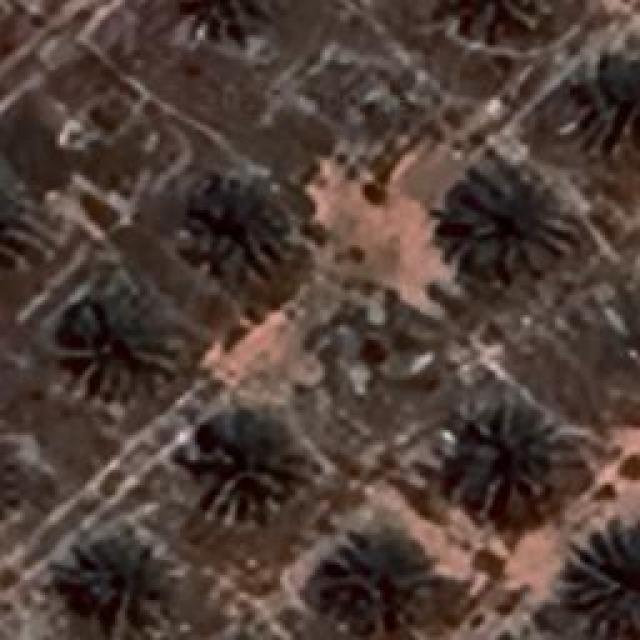PalmTree: (432, 165, 572, 273), (62, 288, 182, 400), (312, 530, 438, 635), (192, 410, 300, 522), (550, 520, 638, 638), (65, 540, 173, 635), (458, 400, 550, 510), (192, 176, 280, 279), (582, 52, 640, 156), (173, 0, 279, 52), (443, 0, 549, 52), (0, 155, 40, 272)
